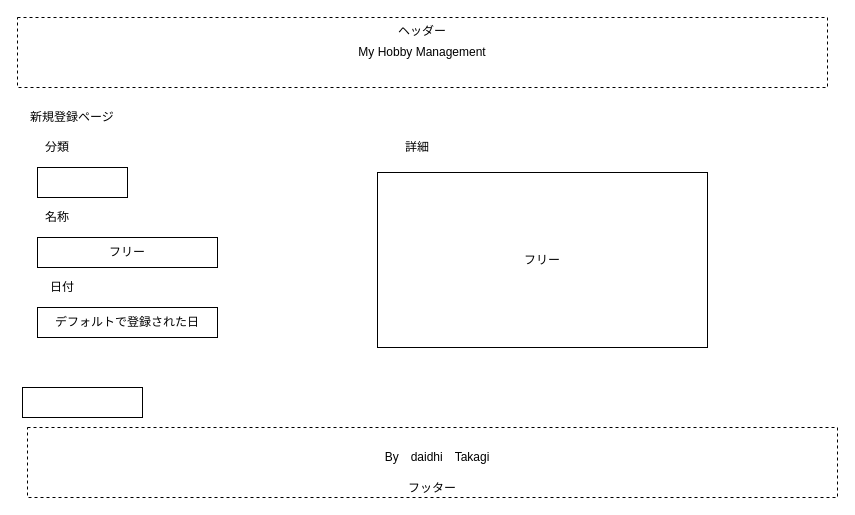
Some shapes in this 855 by 515 pixel diagram are drawn without their labels. The centre of each missing label's shape, as x and y in pixels:
プルダウン: the point at 82,182
更新 ボタン: the point at 82,402
